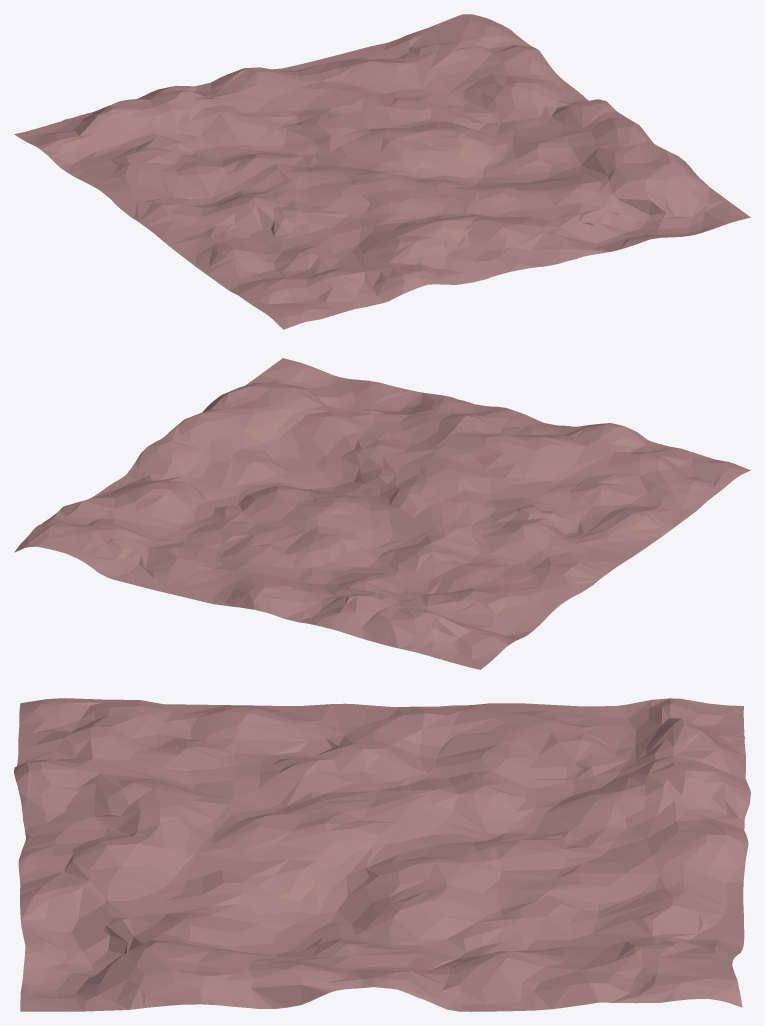
Rendered from Terreno.fbx.
3 views of the same model, one above another, from view 1: azimuth 30°, elevation 25°; view 2: azimuth 150°, elevation 25°; view 3: azimuth 270°, elevation 25° (orthographic). The views are drawn at different scales.
Visible parts, largest first — view 1: terreno:terreno; view 2: terreno:terreno; view 3: terreno:terreno.
Part boxes in pixels (left/top/right/bottom): terreno:terreno: left=14, top=14, right=750, bottom=329; terreno:terreno: left=14, top=358, right=750, bottom=669; terreno:terreno: left=14, top=698, right=750, bottom=1011.
Bounding box in the file's own units: 3.06 × 0.2057 × 3.08.
